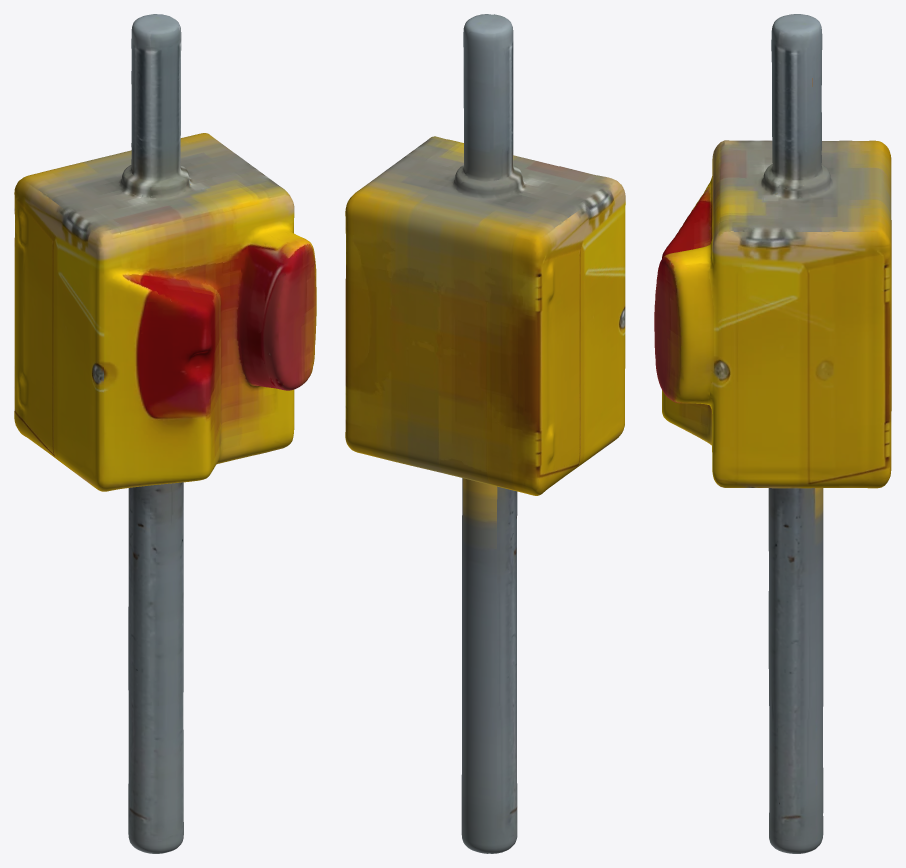
Rendered from emergency-stop.glb.
3 views of the same model, side by side, from view 1: azimuth 30°, elevation 25°; view 2: azimuth 150°, elevation 25°; view 3: azimuth 270°, elevation 25° (orthographic).
Visible parts, largest first — view 1: cowninja-emergency-stop; view 2: cowninja-emergency-stop; view 3: cowninja-emergency-stop.
Part boxes in pixels (x1,y1,x2,y2): cowninja-emergency-stop: [14, 14, 316, 853]; cowninja-emergency-stop: [345, 14, 625, 853]; cowninja-emergency-stop: [654, 14, 891, 853].
Bounding box in the file's own units: 0.0782 × 0.3 × 0.0781.
1 material, 1 textured.
